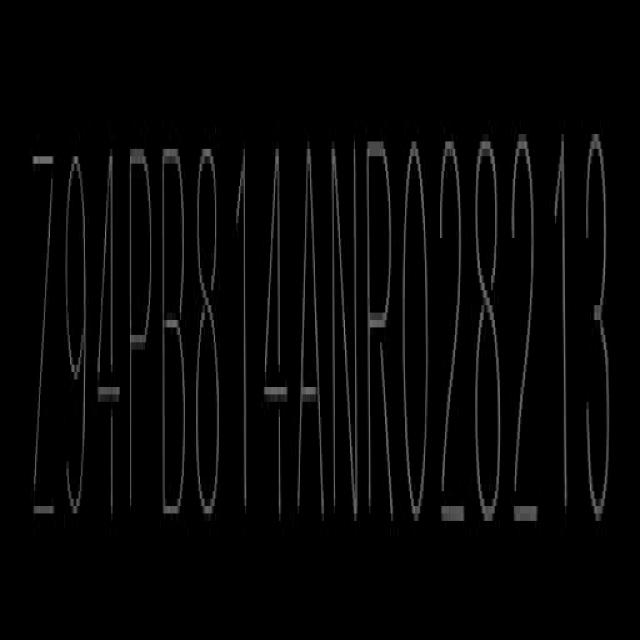0: (402, 132, 432, 529)
1: (552, 130, 572, 524), (234, 141, 251, 518)
2: (507, 130, 543, 548), (435, 138, 469, 535)
3: (582, 130, 614, 538)
4: (260, 149, 290, 526), (92, 140, 120, 521)
8: (473, 130, 504, 529), (192, 135, 222, 524)
9: (62, 140, 89, 534)
A: (296, 135, 327, 521)
B: (158, 135, 190, 529)
N: (328, 129, 362, 532)
P: (124, 127, 154, 510)
R: (364, 124, 398, 532)
Z: (29, 132, 59, 540)
